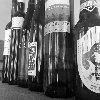beer: (43, 1, 73, 97)
